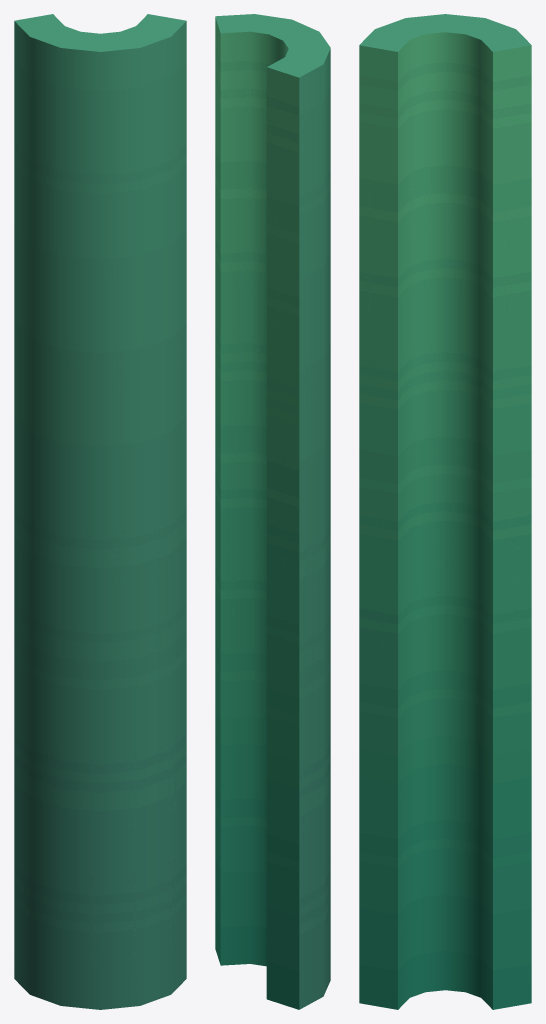
Rendered from food-celery-stick.glb.
The picture shows the model from 3 angles, left to right: view 1: azimuth 90°, elevation 25°; view 2: azimuth 210°, elevation 25°; view 3: azimuth 270°, elevation 25°; orthographic projection. The views are drawn at different scales.
Visible parts, largest first — view 1: celery-stick; view 2: celery-stick; view 3: celery-stick.
Part boxes in pixels (box(x1,y1,x2,y2)): celery-stick: box(14, 14, 186, 1009); celery-stick: box(215, 14, 330, 1009); celery-stick: box(359, 14, 531, 1009).
Size of the model in its own units: 0.046 by 0.54 by 0.0882.
1 material, 1 textured.
